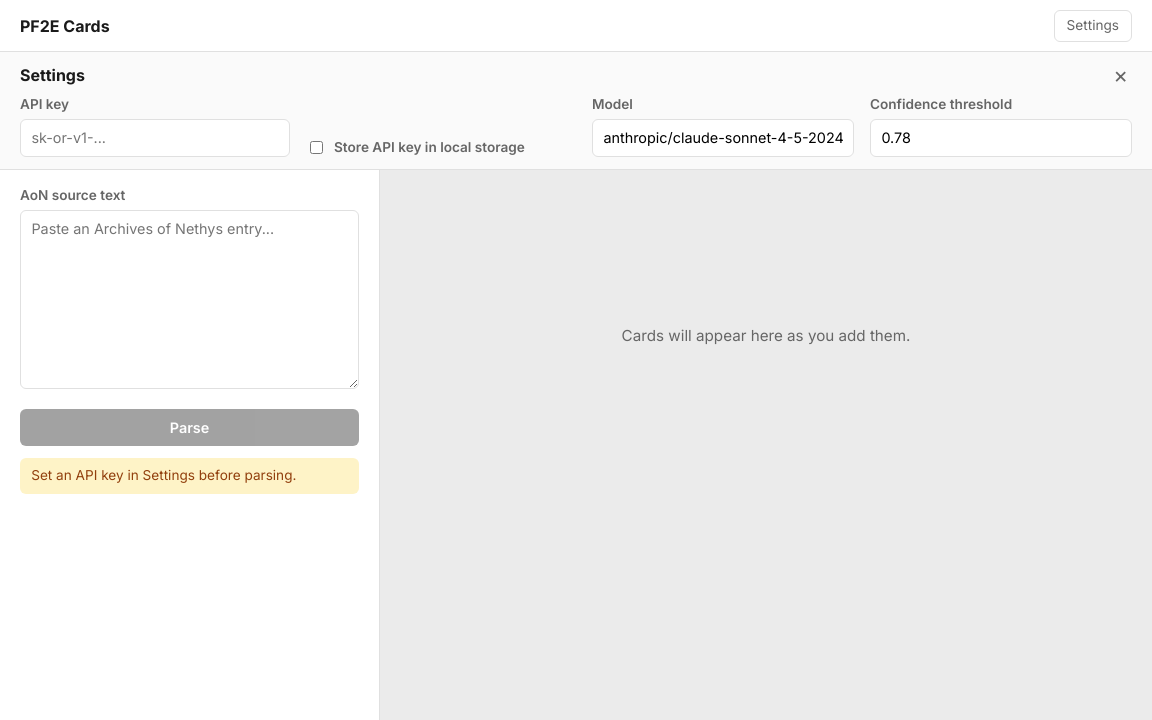
Test: PF2E cards app › shows warnings as badges but does not block adding
The width and height of the screenshot is (1152, 720).
Type "sk-test" into the password field labelled "API key" at coordinates (155, 138), box [20,119,290,157]
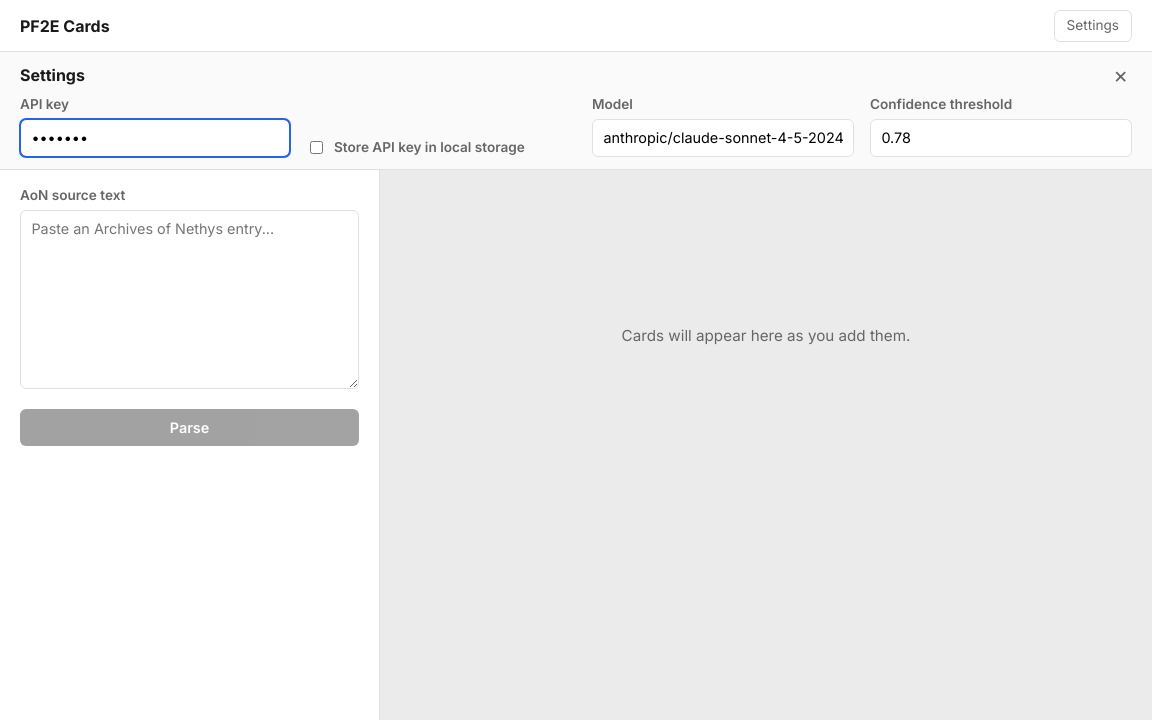
Type "Ambiguous source text" into the text box labelled "AoN source text" at coordinates (190, 299), box [20,210,359,389]
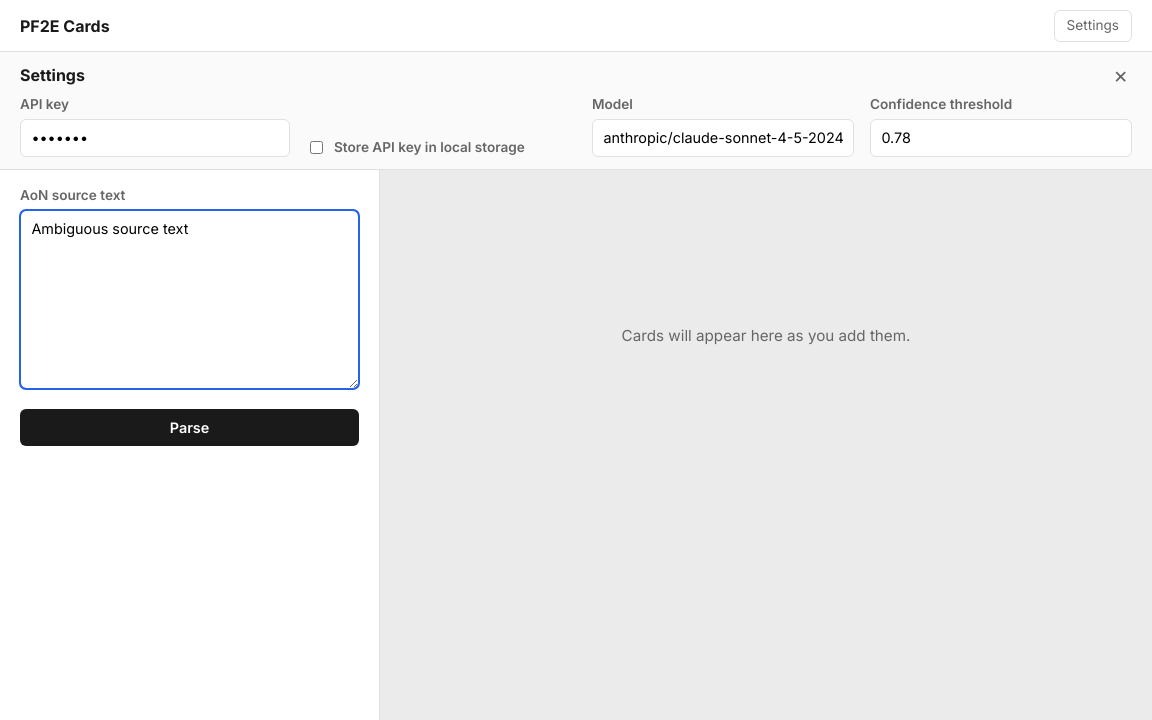
Click the button "Parse" at coordinates (190, 428), box [20,409,359,446]
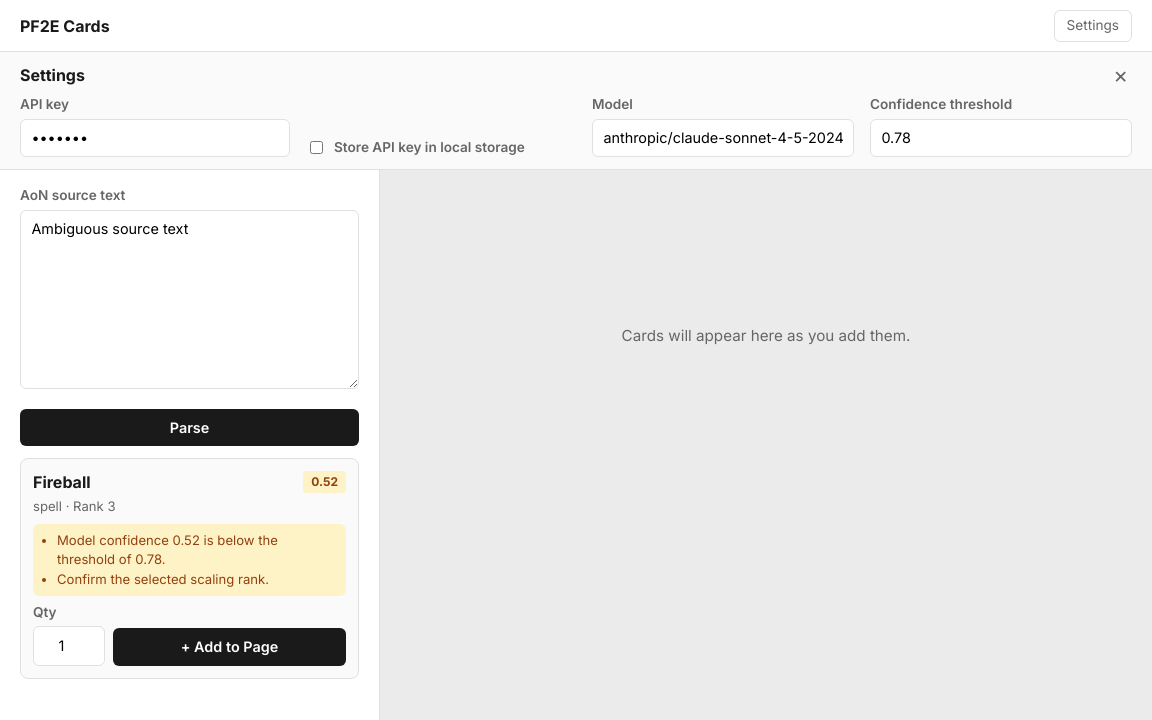
Now the list item "Confirm the selected scaling rank." is shown, box [57,571,269,587]
Now the button "+ Add to Page" is enabled, box [113,628,346,666]
